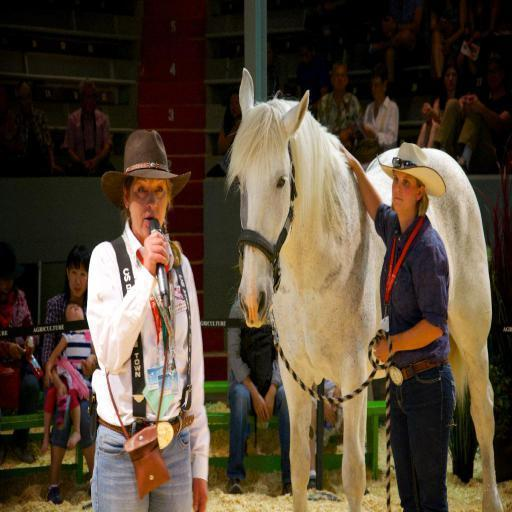horse: (226, 66, 506, 512)
